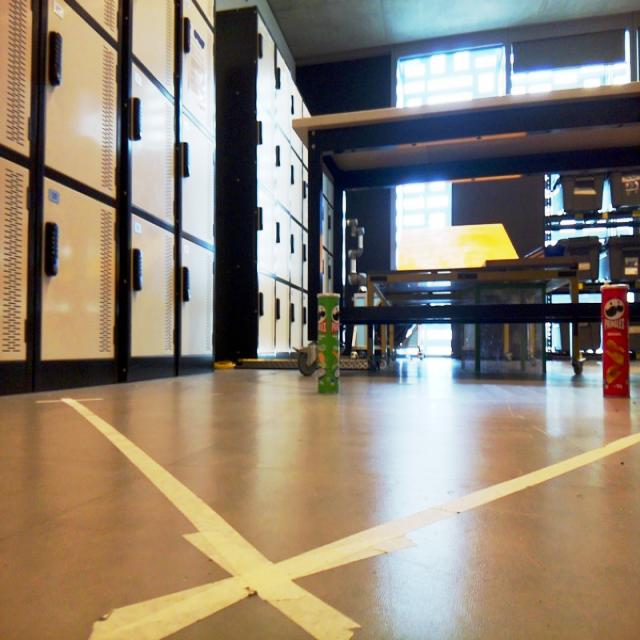greenpringles: (300, 284, 352, 411)
redpringles: (600, 272, 640, 418)
